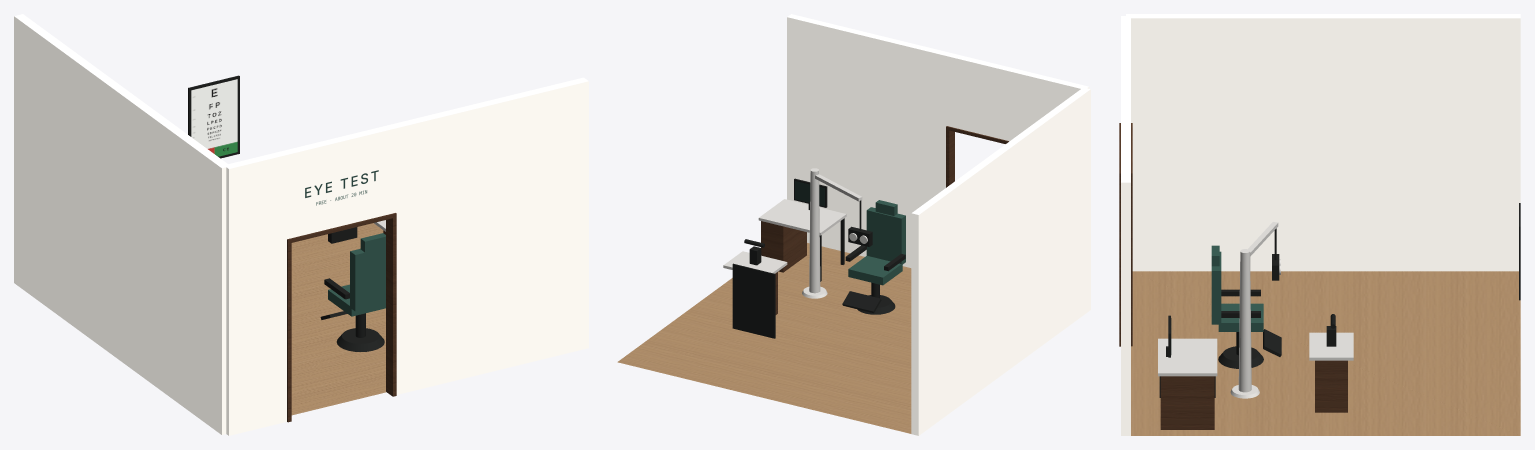
Rendered from Eye_Test_Room.glb.
The picture shows the model from 3 angles, left to right: view 1: azimuth 30°, elevation 25°; view 2: azimuth 150°, elevation 25°; view 3: azimuth 270°, elevation 25°; orthographic projection. The views are drawn at different scales.
Visible parts, largest first — view 1: Eye_Test_Room_Walls, Eye_Test_Room_Oak_Floor, Eye_Test_Room_Walnut, Snellen_Eye_Chart, Eye_Test_Room_Upholstery, Eye_Test_Room_Black_Metal; view 2: Eye_Test_Room_Walls, Eye_Test_Room_Oak_Floor, Eye_Test_Room_Black_Metal, Eye_Test_Room_White, Eye_Test_Room_Upholstery, Eye_Test_Room_Walnut; view 3: Eye_Test_Room_Walls, Eye_Test_Room_Oak_Floor, Eye_Test_Room_White, Eye_Test_Room_Walnut, Eye_Test_Room_Black_Metal, Eye_Test_Room_Upholstery.
Boxes of the visible parts, box(x1,y1,x2,y2) form: Eye_Test_Room_Walls: box(14, 14, 588, 435); Eye_Test_Room_Oak_Floor: box(291, 223, 386, 415); Eye_Test_Room_Walnut: box(287, 213, 396, 422); Snellen_Eye_Chart: box(191, 79, 237, 156); Eye_Test_Room_Upholstery: box(328, 233, 385, 316); Eye_Test_Room_Black_Metal: box(188, 75, 384, 351); Eye_Test_Room_Walls: box(787, 14, 1090, 435); Eye_Test_Room_Oak_Floor: box(617, 243, 911, 433); Eye_Test_Room_Black_Metal: box(732, 178, 905, 338); Eye_Test_Room_White: box(723, 168, 867, 298); Eye_Test_Room_Upholstery: box(848, 200, 905, 285); Eye_Test_Room_Walnut: box(761, 126, 1008, 314); Eye_Test_Room_Walls: box(1121, 14, 1520, 435); Eye_Test_Room_Oak_Floor: box(1131, 271, 1520, 435); Eye_Test_Room_White: box(1158, 222, 1353, 398); Eye_Test_Room_Walnut: box(1119, 123, 1347, 429); Eye_Test_Room_Black_Metal: box(1159, 203, 1520, 397); Eye_Test_Room_Upholstery: box(1211, 245, 1263, 331).
Bounding box in the file's own units: 4.86 × 3.4 × 4.88.
Materials: 9 (4 with a texture image).
